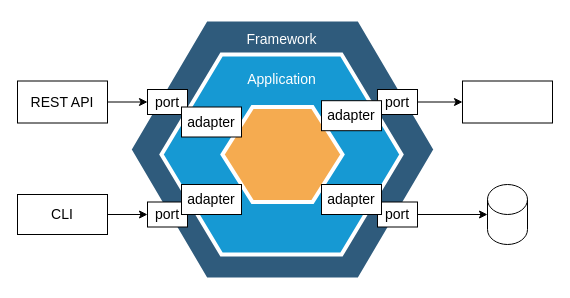
Some shapes in this 570 by 298 pixel diagram are drawn without their labels. Each missing label, with the centre of its shape:
DB: the point at 507,214
Domain: the point at 282,154
External API: the point at 507,101
